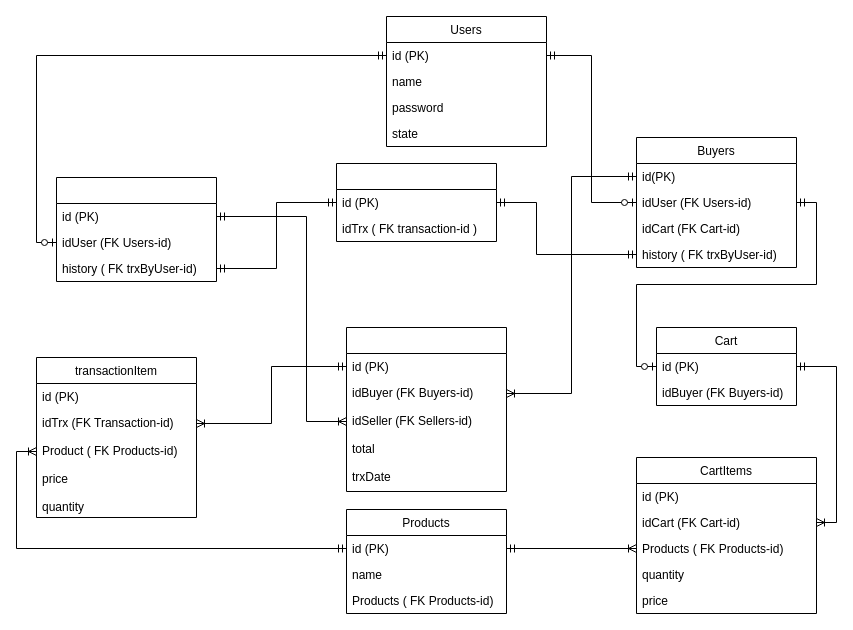
The diagram is 853 pixels wide and 630 high, and some of its shapes have lost their labels. Here are the shapes that lost their labels. From the top down, the box of each, then its label:
(336, 162, 496, 242): trxByUser
(56, 176, 216, 282): Sellers
(346, 326, 506, 492): transaction
